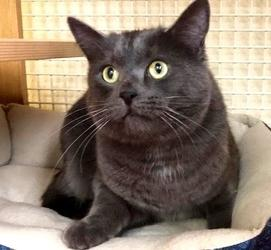rblue: (58, 1, 225, 149)
